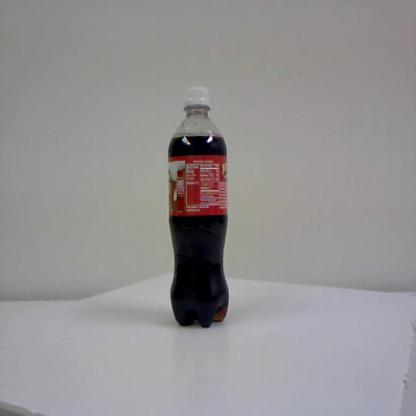bottle: (164, 82, 230, 330)
